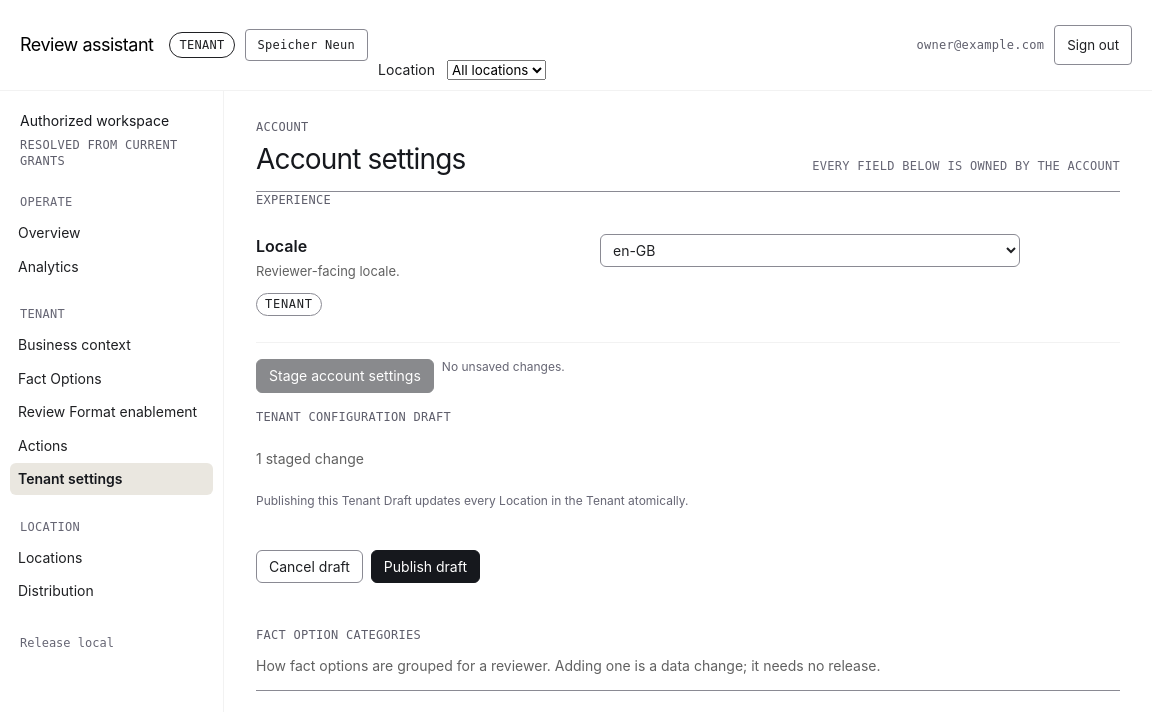
Test case: Tenant and Location configuration Drafts › locks both release controls while publication is pending
Click the button "Publish draft" at (425, 567), box [371,550,480,583]
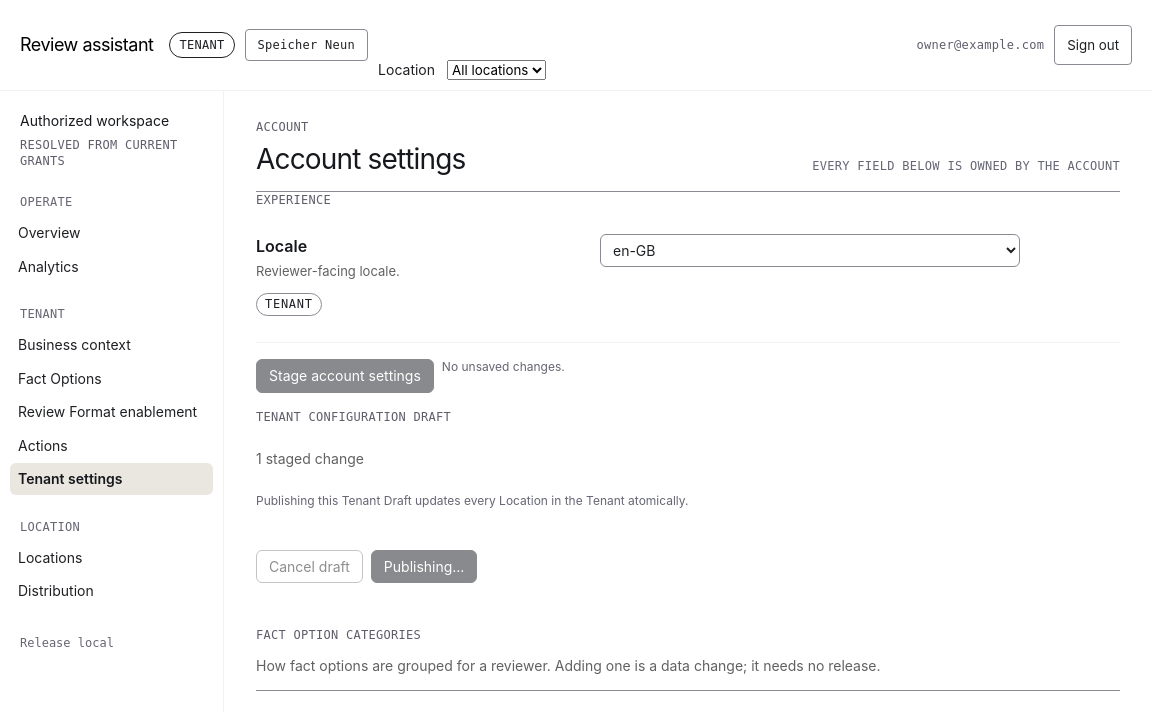
Check: the button "Publishing…" is disabled, box [371,550,477,583]
Check: the button "Cancel draft" is disabled, box [256,550,363,583]
